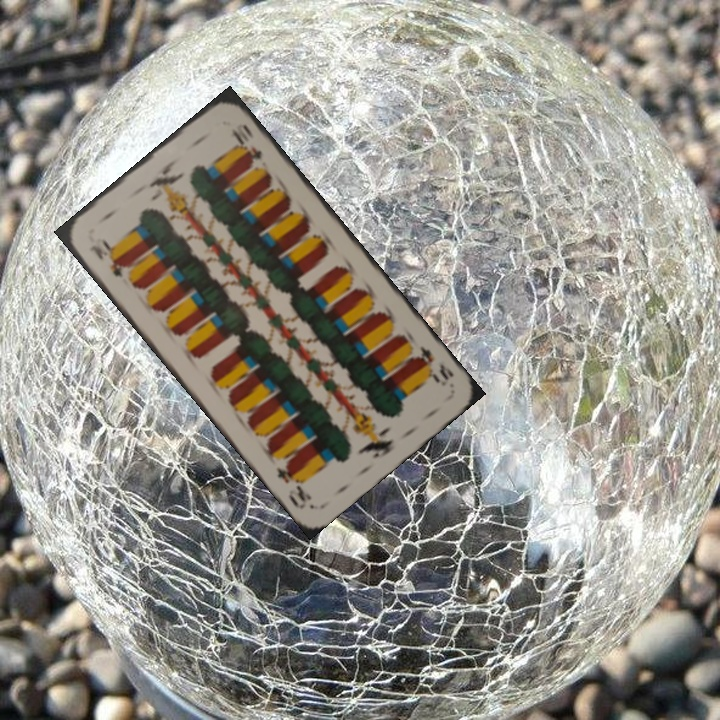E10: (409, 342, 457, 389), (85, 237, 127, 281)
